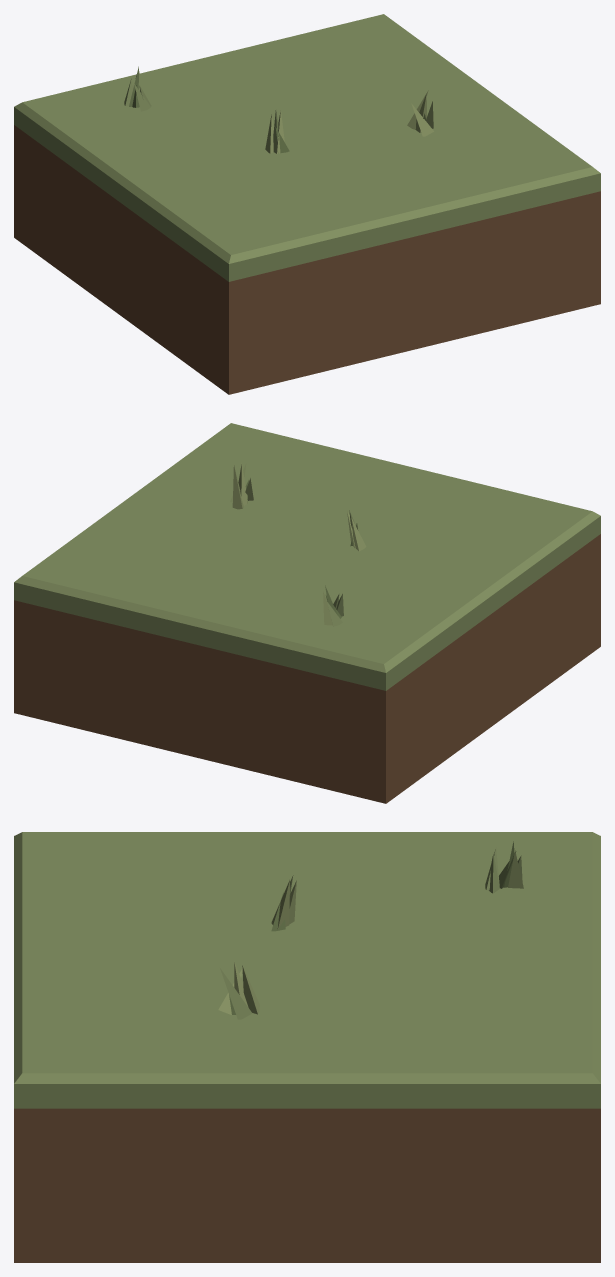
Rendered from Ground B.fbx.
3 views of the same model, one above another, from view 1: azimuth 30°, elevation 25°; view 2: azimuth 150°, elevation 25°; view 3: azimuth 270°, elevation 25° (orthographic). The views are drawn at different scales.
Visible parts, largest first — view 1: Ground B; view 2: Ground B; view 3: Ground B.
Part boxes in pixels (x1,y1,x2,y2): Ground B: (14,14,600,394); Ground B: (14,423,600,803); Ground B: (14,832,600,1262).
Bounding box in the file's own units: 1 × 0.4506 × 1.
